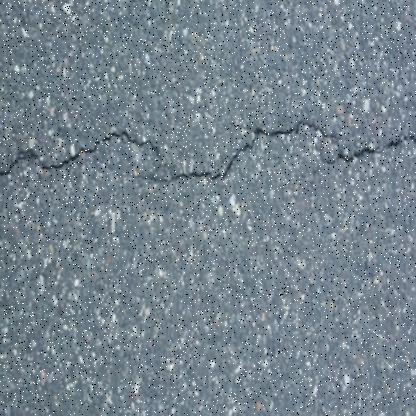Cracks: (0, 108, 415, 200)
